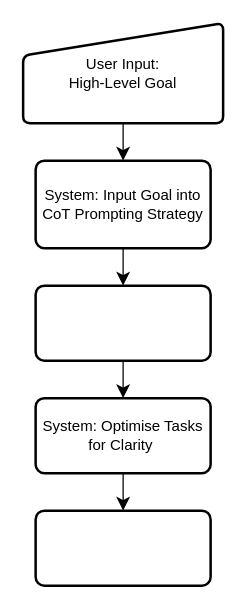
The diagram is 245 pixels wide and 608 high, and some of its shapes have lost their labels. The shapes that lost their labels are listed below. From the top down, each one's centre as x and y in pixels, then its label:
point 122,322: LLM: Generates 10 Sub-Tasks
point 122,547: Dashboard: "Task Breakdown" Section
